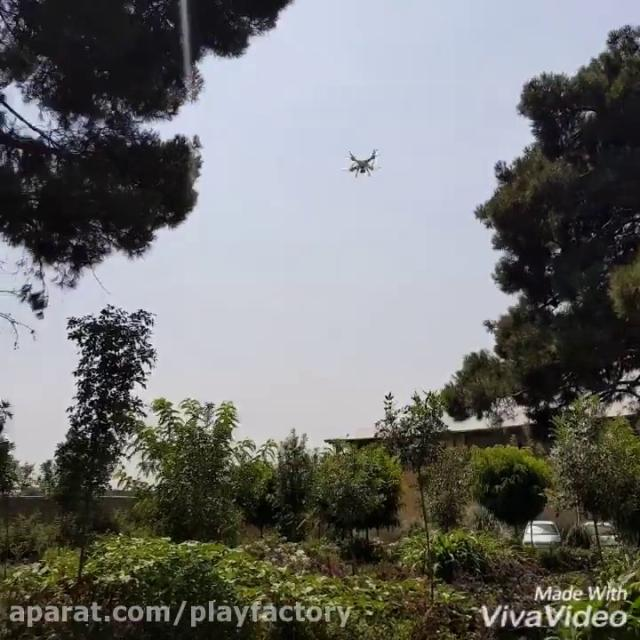drone: (338, 144, 388, 179)
